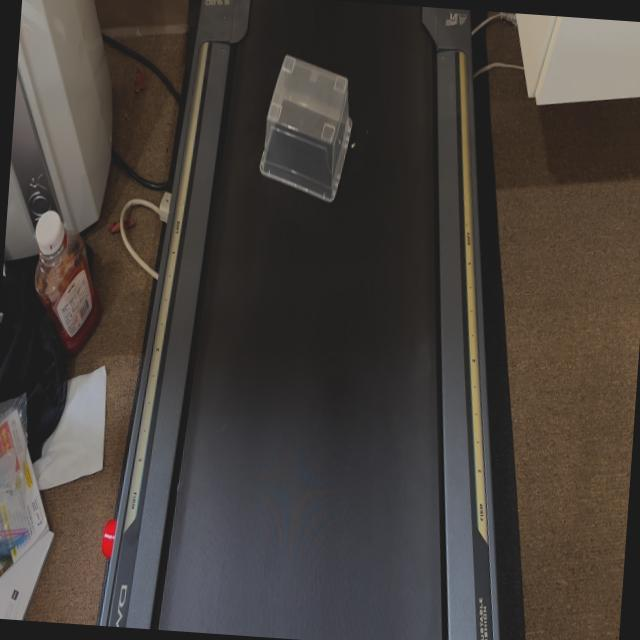Recycle: (256, 50, 358, 204)
